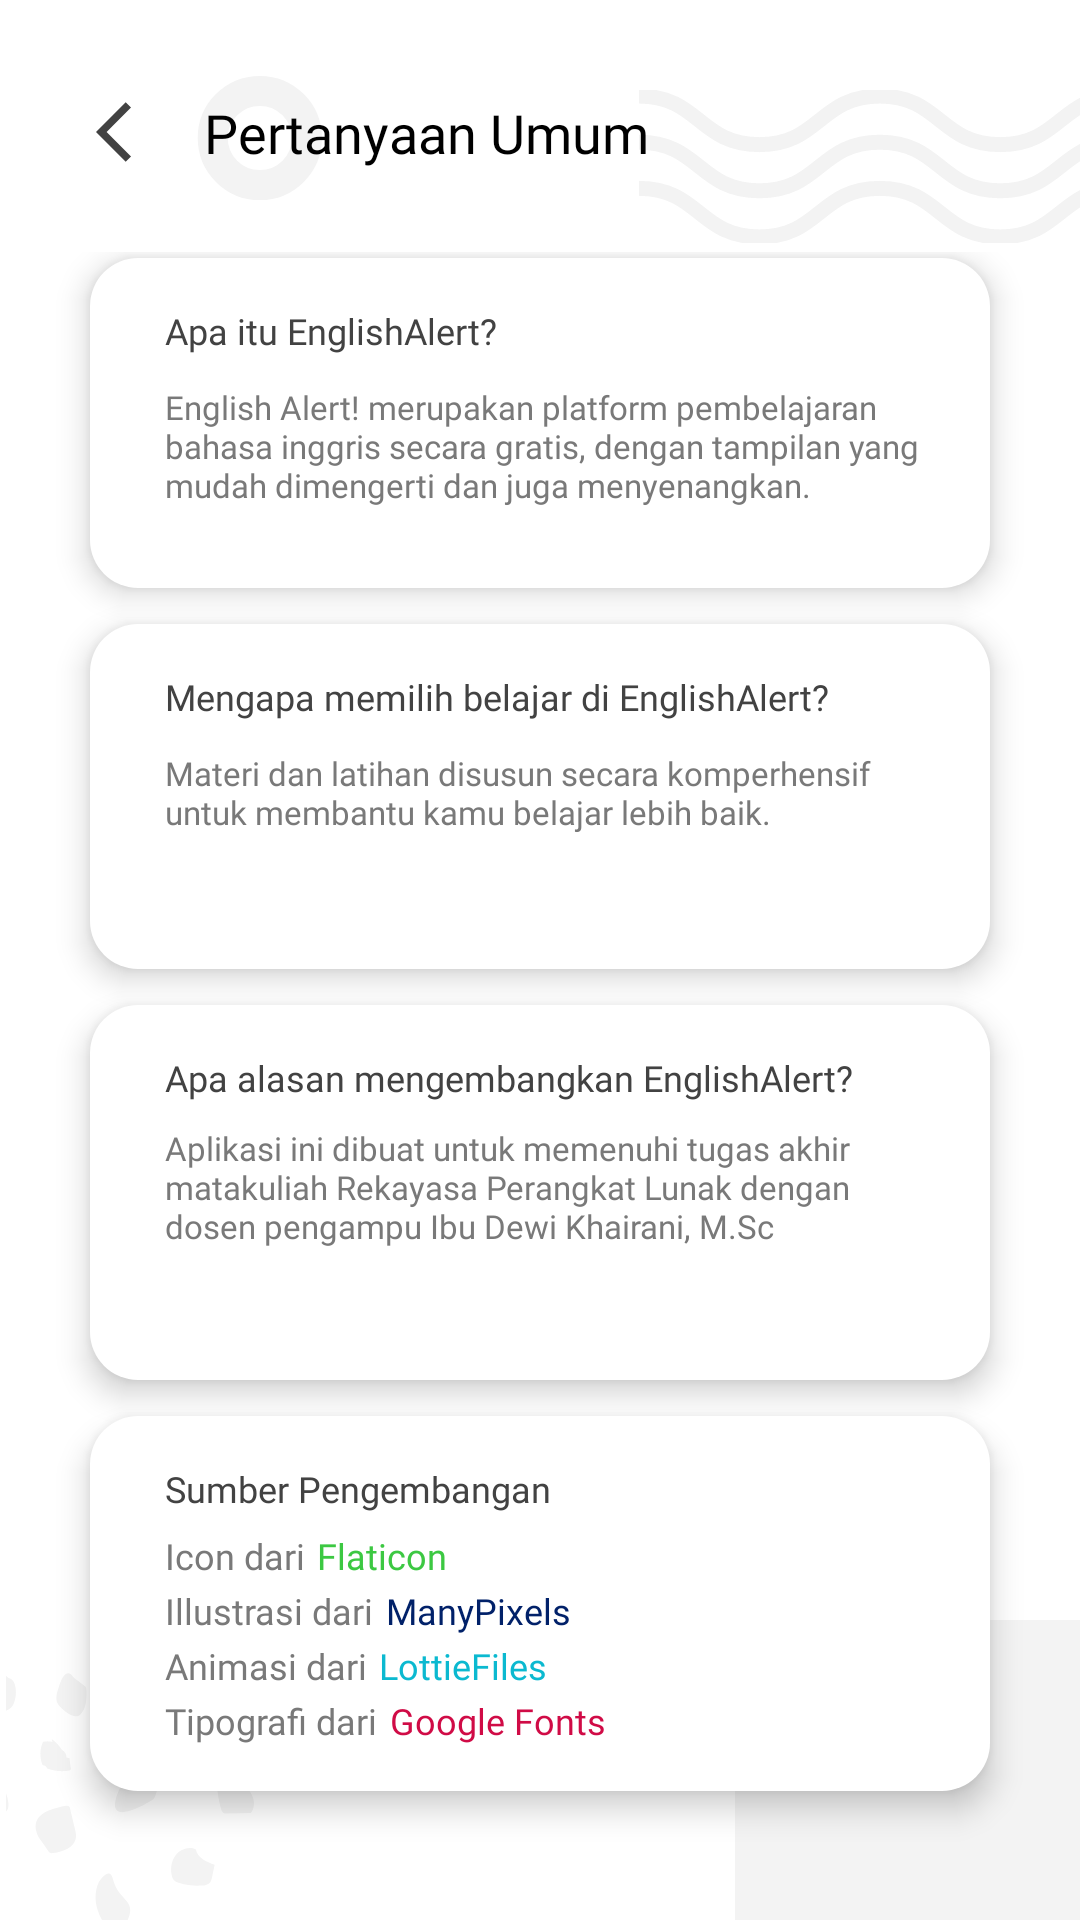

Locate icon controls on the screen. Image size 1080 × 1920, boxes as (x1=x1, y1=y1, x2=x2, y2=y2).
back: (x1=96, y1=102, x2=131, y2=162)
